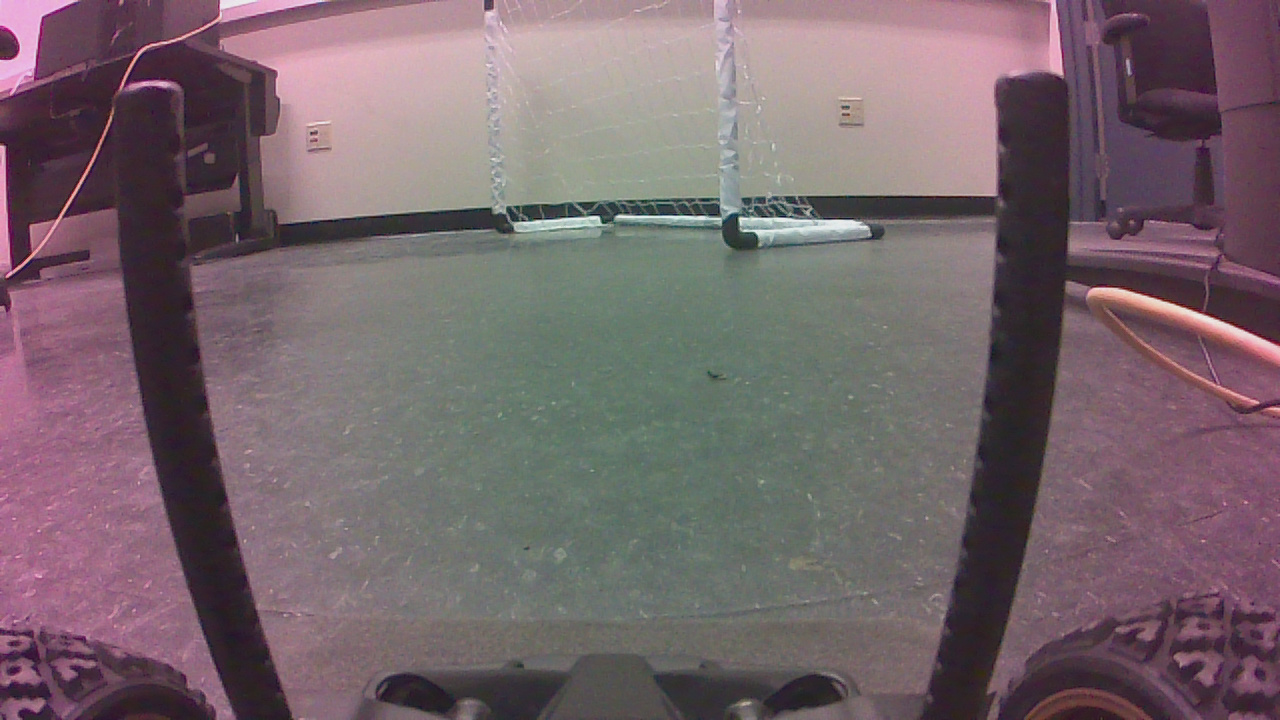goal: (488, 2, 893, 254)
